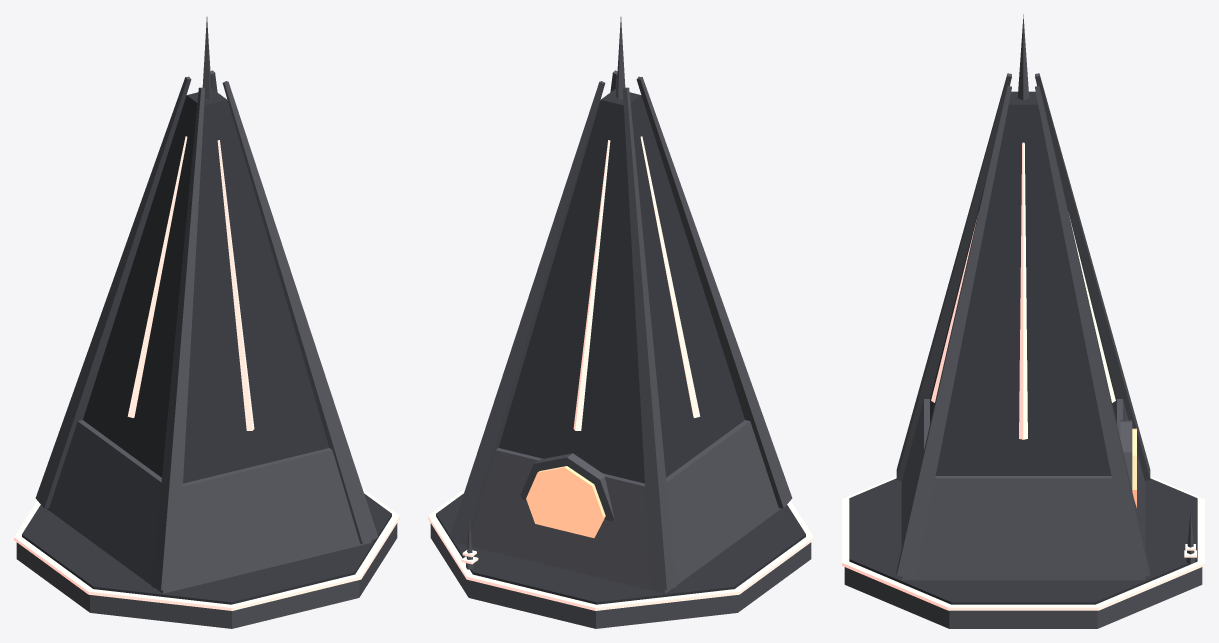
File: zone_high_6_t2.glb
3 renders of one model, left to right at view 1: azimuth 30°, elevation 25°; view 2: azimuth 150°, elevation 25°; view 3: azimuth 270°, elevation 25°, orthographic.
Parts seen in each view (by area): view 1: zone_high_6_t2; view 2: zone_high_6_t2; view 3: zone_high_6_t2.
Part boxes in pixels (x1,y1,x2,y2): zone_high_6_t2: (14, 17, 399, 628); zone_high_6_t2: (428, 17, 813, 628); zone_high_6_t2: (842, 14, 1204, 628).
Bounding box in the file's own units: 27.35 × 44.85 × 27.35.
